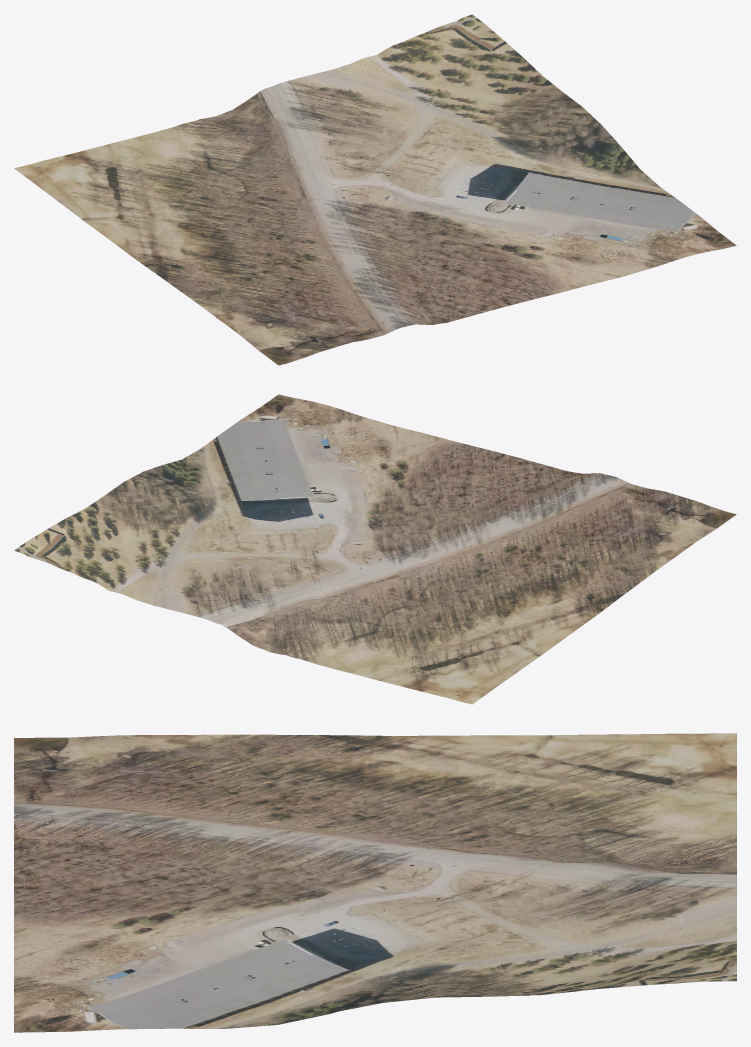
Rendered from CM_Terrain_24491892_6818975.fbx.
The picture shows the model from 3 angles, top to bottom: view 1: azimuth 30°, elevation 25°; view 2: azimuth 150°, elevation 25°; view 3: azimuth 270°, elevation 25°; orthographic projection. The views are drawn at different scales.
Visible parts, largest first — view 1: CM_Terrain_24491892_6818975_LOD0; view 2: CM_Terrain_24491892_6818975_LOD0; view 3: CM_Terrain_24491892_6818975_LOD0.
Part boxes in pixels (x1=…): CM_Terrain_24491892_6818975_LOD0: x1=14, y1=14, x2=736, y2=365; CM_Terrain_24491892_6818975_LOD0: x1=14, y1=394, x2=736, y2=704; CM_Terrain_24491892_6818975_LOD0: x1=14, y1=733, x2=736, y2=1032.
Size of what is drawn, in the model's own units: 205 by 19.52 by 205.
